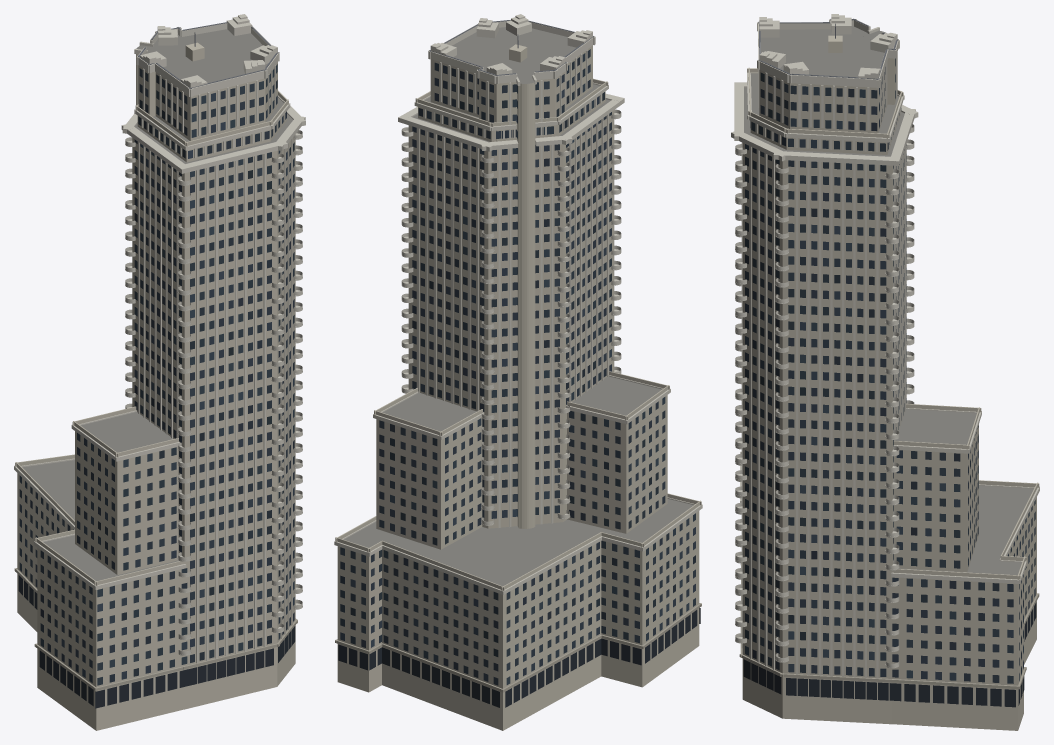
3 views of the same model, side by side, from view 1: azimuth 30°, elevation 25°; view 2: azimuth 150°, elevation 25°; view 3: azimuth 270°, elevation 25° (orthographic). The views are drawn at different scales.
Visible parts, largest first — view 1: torre_de_madrid, glass; view 2: torre_de_madrid, glass; view 3: torre_de_madrid, glass.
Boxes of the visible parts, bbox=[...] form: torre_de_madrid: bbox=[14, 14, 305, 730]; glass: bbox=[18, 64, 295, 708]; torre_de_madrid: bbox=[334, 14, 702, 730]; glass: bbox=[338, 49, 700, 707]; torre_de_madrid: bbox=[731, 14, 1039, 730]; glass: bbox=[743, 58, 1036, 707].
Size of the model in its own units: 61.59 by 150 by 64.04.
